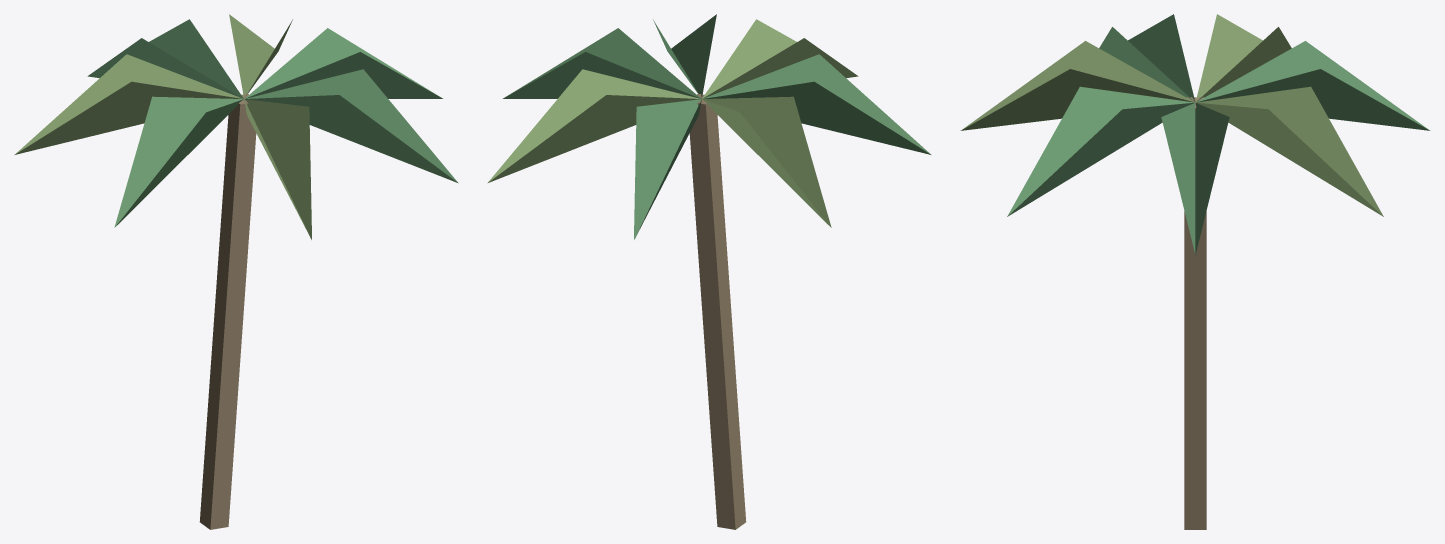
File: palm.glb
3 views of the same model, side by side, from view 1: azimuth 30°, elevation 25°; view 2: azimuth 150°, elevation 25°; view 3: azimuth 270°, elevation 25° (orthographic). The views are drawn at different scales.
Visible parts, largest first — view 1: Palm frond, Palm frond.001, Cube; view 2: Palm frond, Palm frond.001, Cube; view 3: Palm frond, Palm frond.001, Cube.
Part boxes in pixels (<box>): Palm frond: <box>87,19,458,227</box>; Palm frond.001: <box>14,14,311,239</box>; Cube: <box>199,94,256,529</box>; Palm frond: <box>503,14,931,239</box>; Palm frond.001: <box>487,19,858,227</box>; Cube: <box>689,94,746,529</box>; Palm frond: <box>1007,14,1430,255</box>; Palm frond.001: <box>960,14,1383,216</box>; Cube: <box>1184,97,1206,529</box>.
Bounding box in the file's own units: 11.41 × 13.02 × 11.7.
